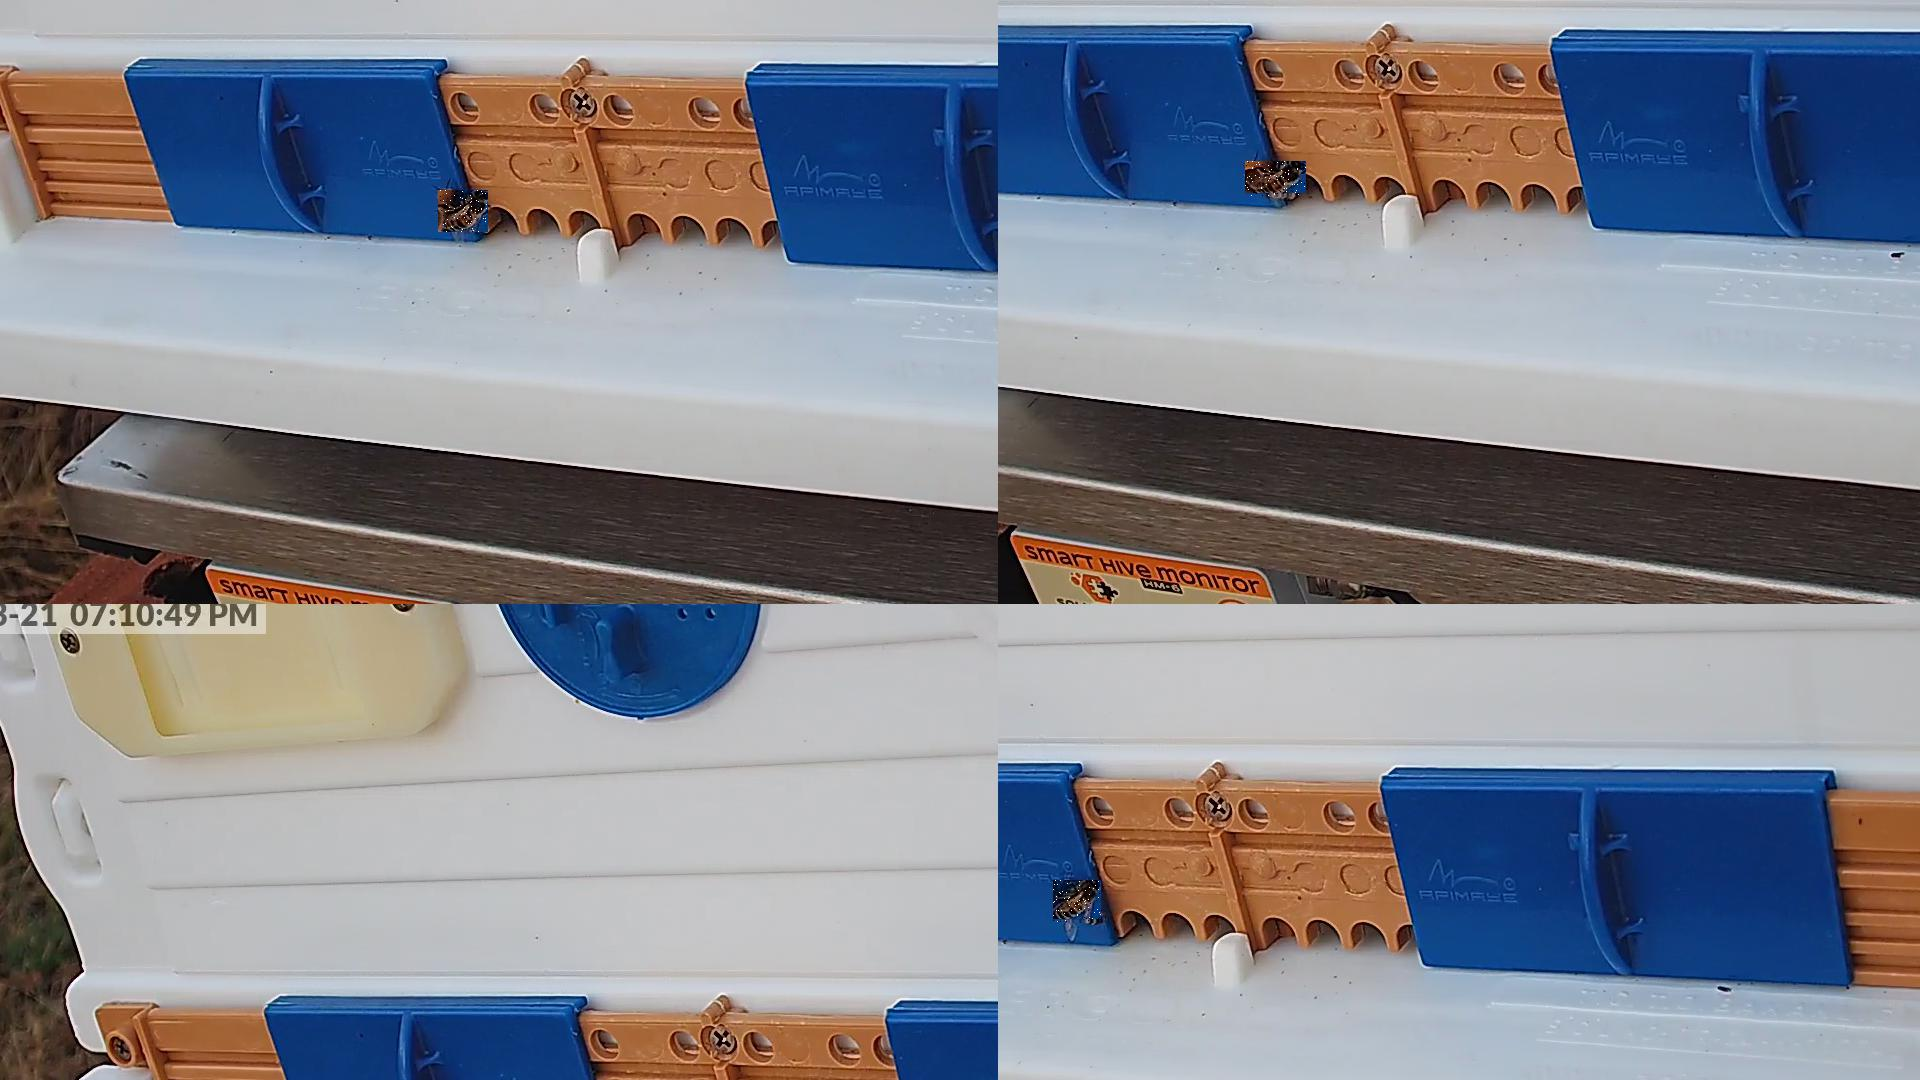bee: (438, 190, 489, 233), (1245, 162, 1307, 198), (1054, 881, 1102, 924)
